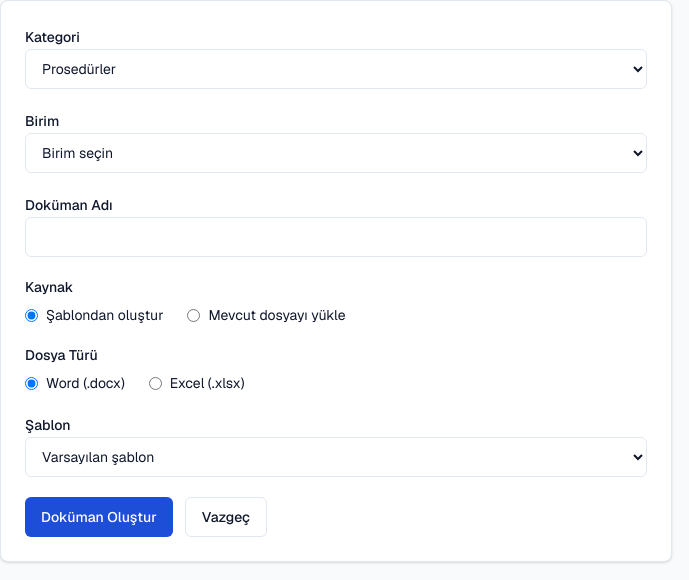
Test: NewDocumentForm › upload › requires a file
Select "Kalite Koordinatörlüğü" in the dropdown labelled "Birim" at (336, 153), box [25,133,647,173]
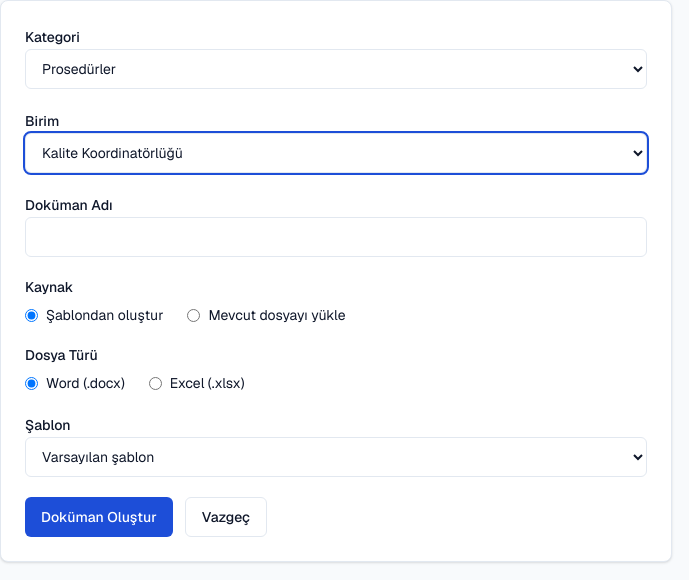
Type "Dosyasız Doküman" into the field labelled "Doküman Adı" at (336, 237), box [25,217,647,257]
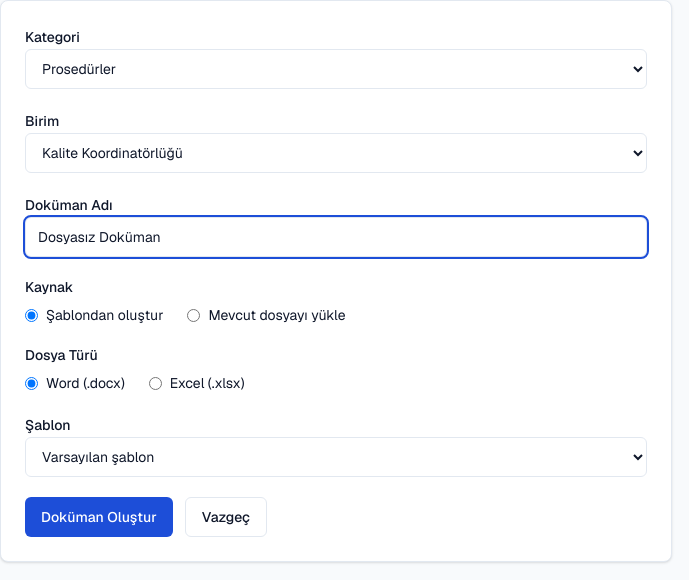
Click the radio button labelled "Mevcut dosyayı yükle" at (194, 315), box [188,308,200,322]
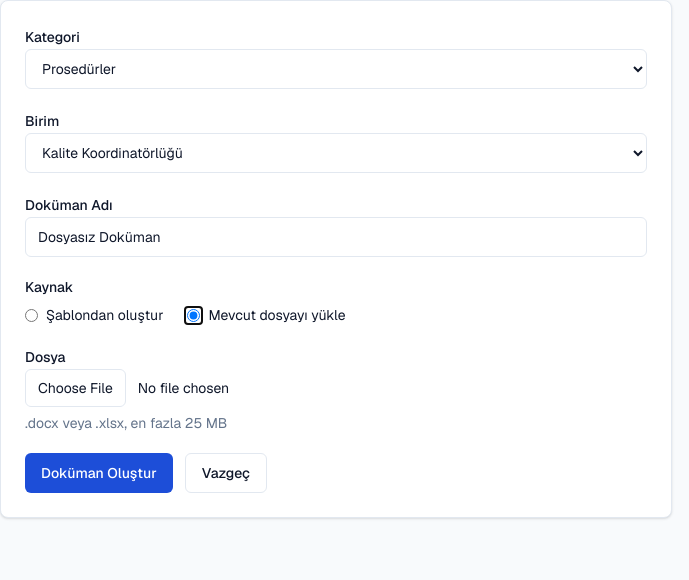
Click the button "Doküman Oluştur" at (99, 473), box [25,453,173,493]
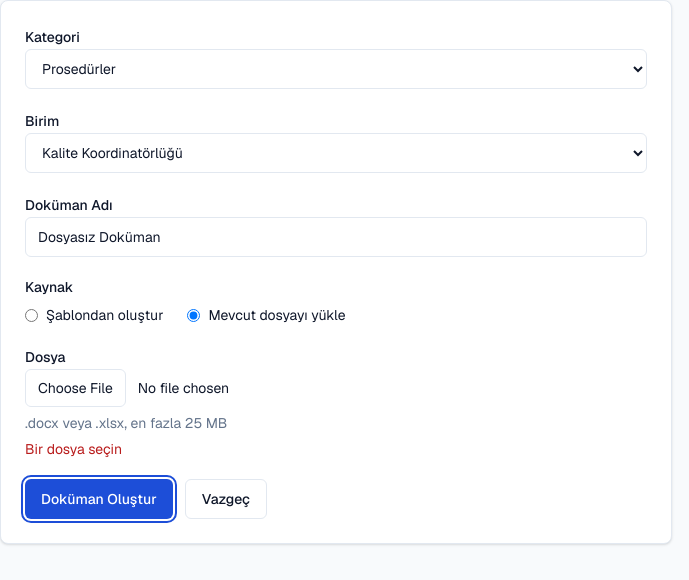
expect the text "Bir dosya seçin" is shown: met, box [25,440,122,458]
